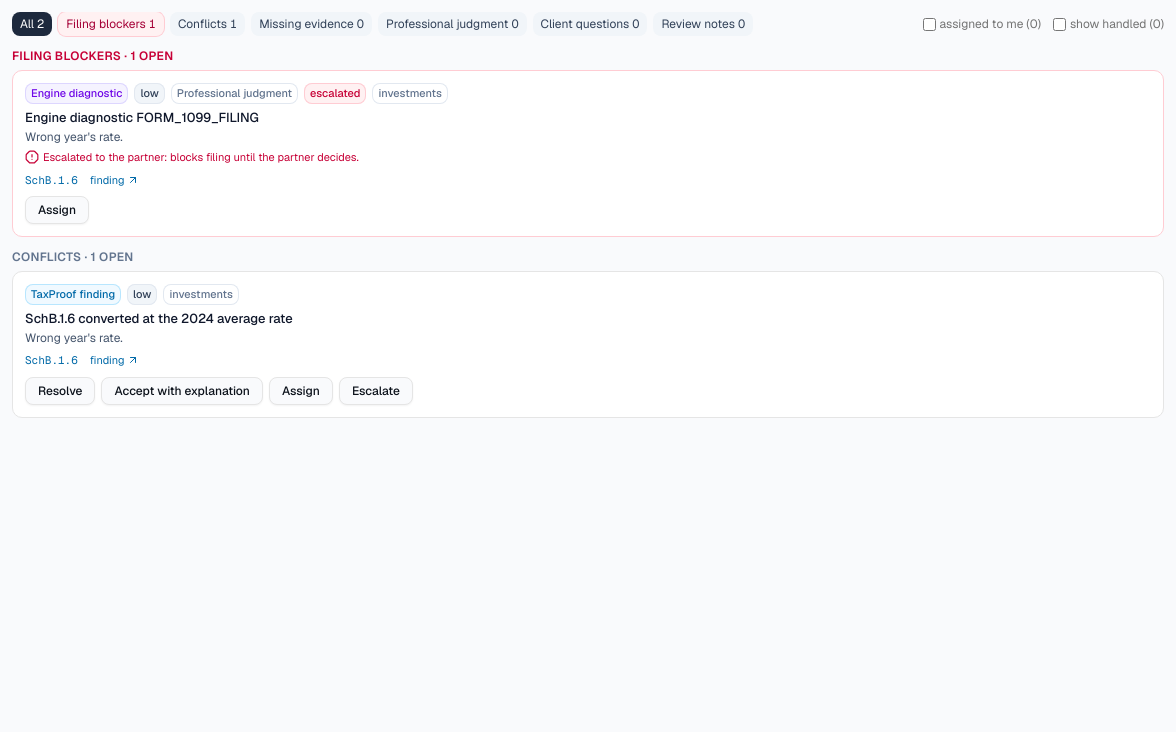
Test case: Uncertainty Inbox › puts blockers first with the reason, and records an acceptance with its explanation
This screenshot has width=1176, height=732.
Expected: the heading "Filing blockers · 1 open" is shown, [12,48,173,64]
Expected: the text "Escalated to the partner: blocks filing" is shown, [43,150,359,164]
Click the button "Accept with explanation" at [182, 390], box [102,376,263,404]
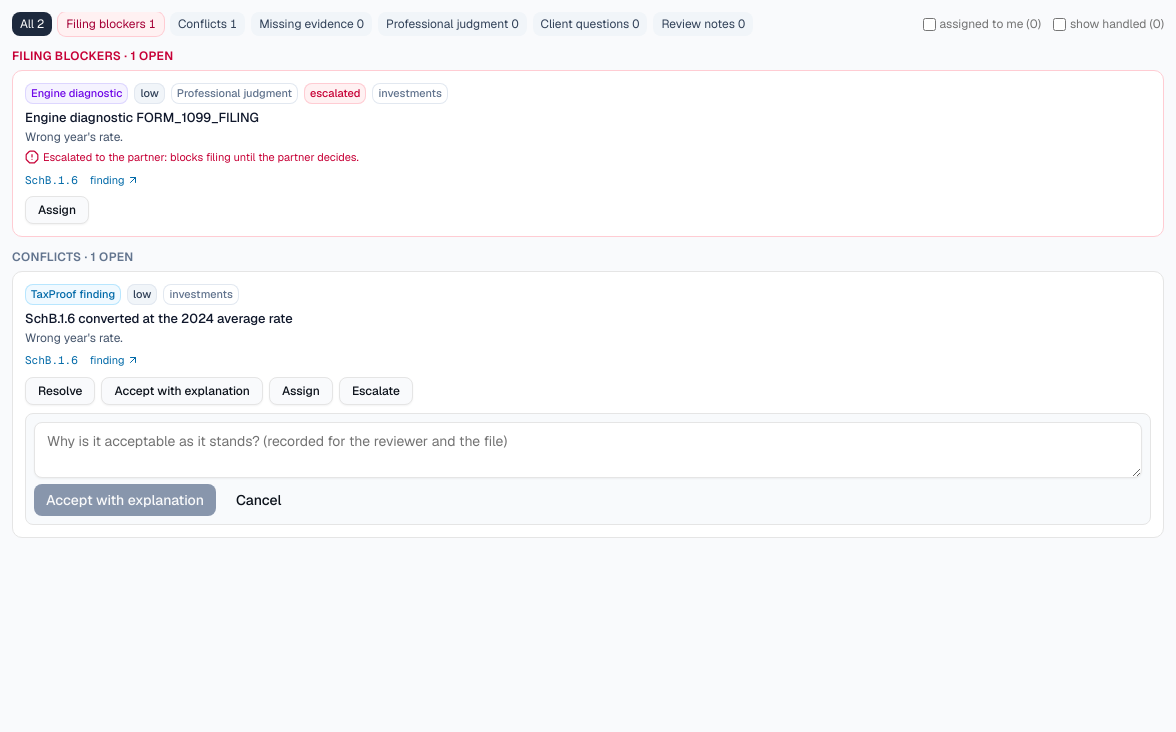
Replace the text in the text box labelled "Why is it acceptable" with "Rate difference is immaterial." at [588, 450], box [34,422,1142,478]
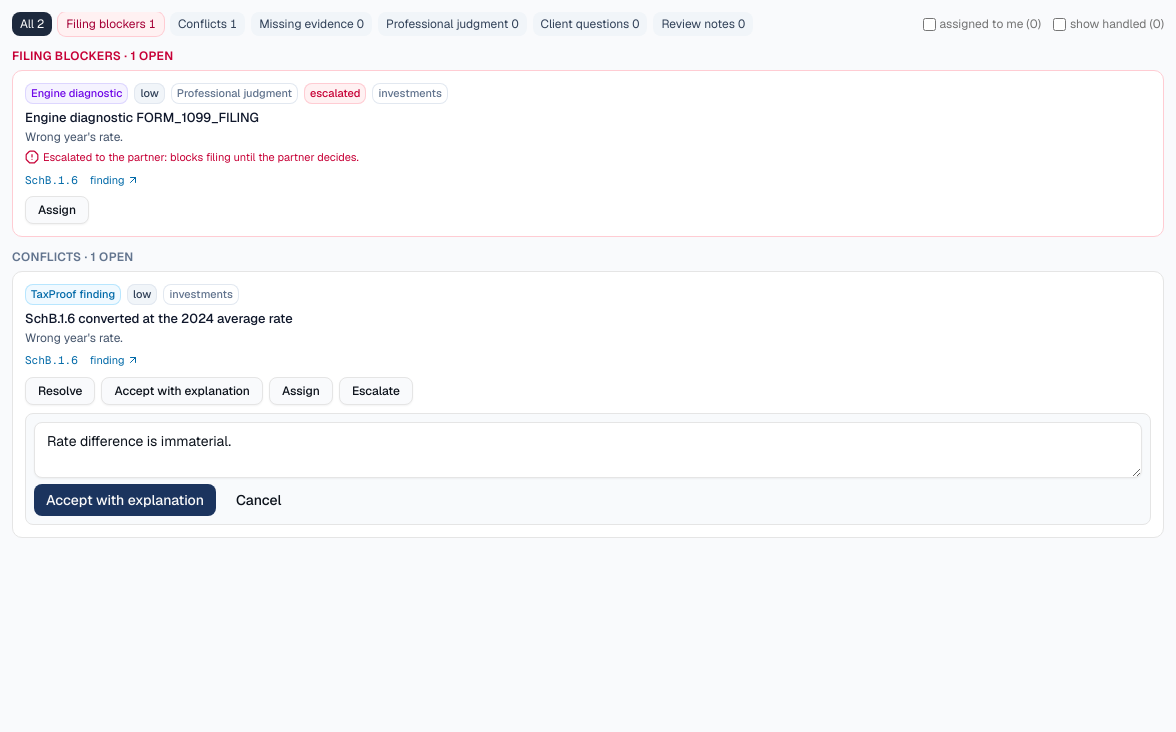
Click the 2nd button "Accept with explanation" at [125, 500], box [34,484,216,516]
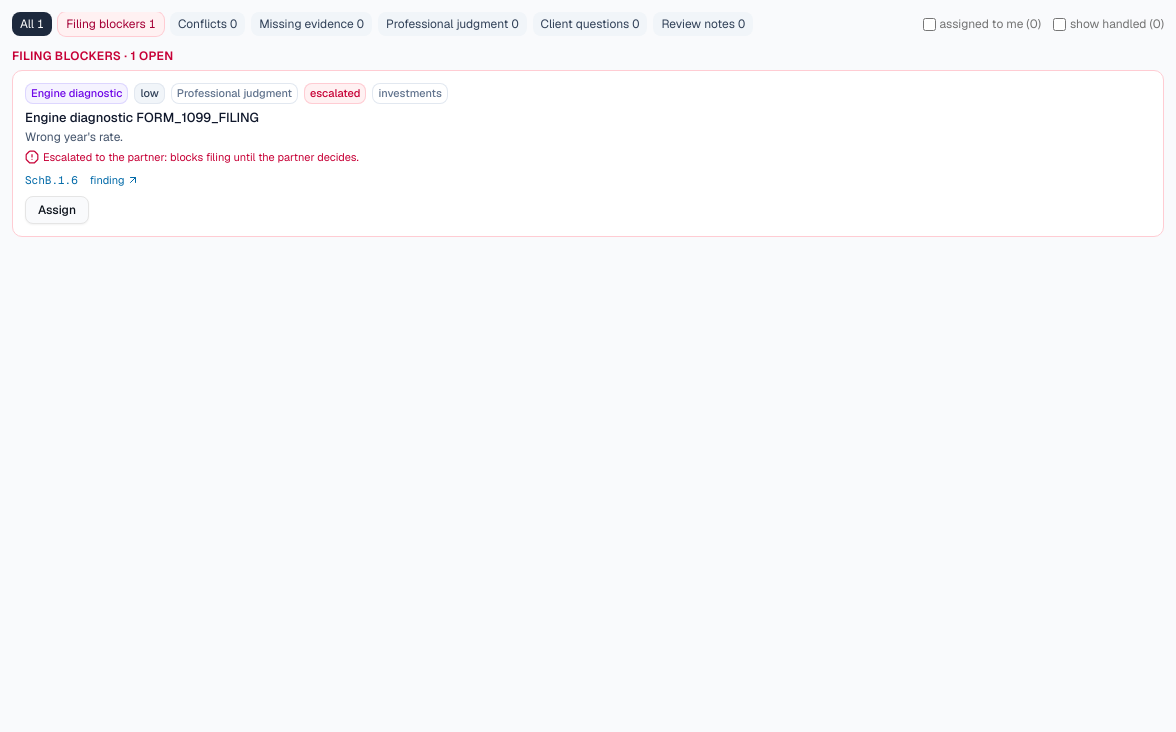
Expected: the heading "SchB.1.6 converted at the 2024 average rate" is gone
